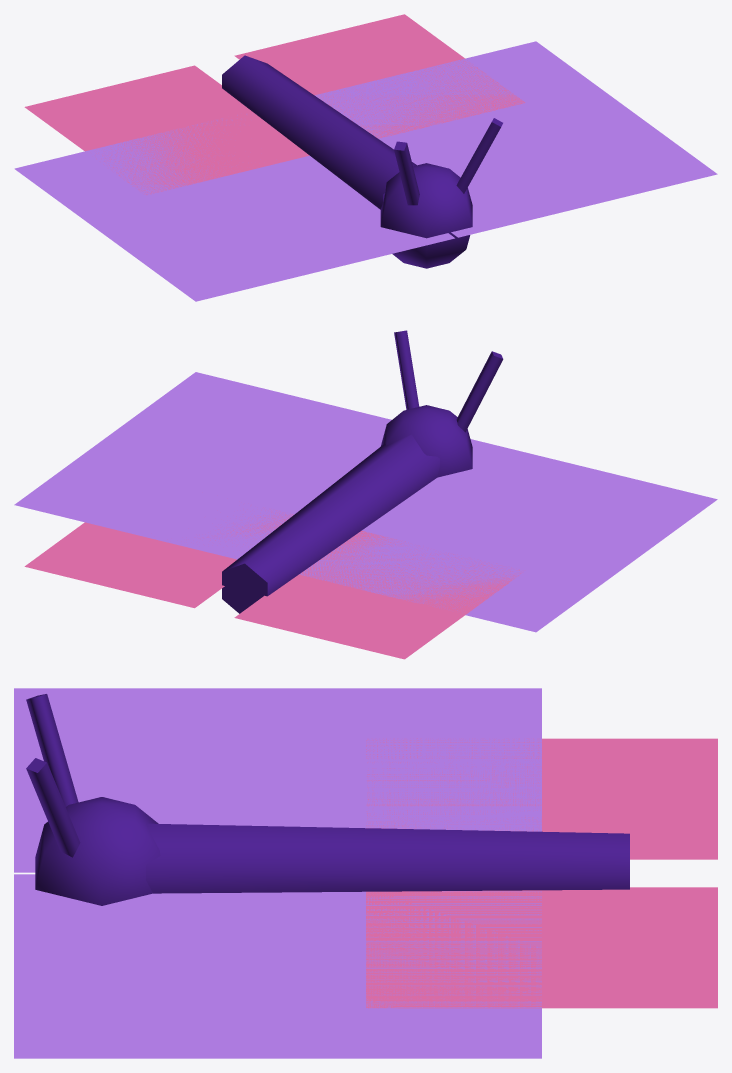
Rendered from butterfly.glb.
The picture shows the model from 3 angles, top to bottom: view 1: azimuth 30°, elevation 25°; view 2: azimuth 150°, elevation 25°; view 3: azimuth 270°, elevation 25°; orthographic projection. The views are drawn at different scales.
Parts seen in each view (by area): view 1: wing_left, wing_right, body, head, butterfly; view 2: wing_left, wing_right, body, head, butterfly; view 3: wing_right, wing_left, body, head, butterfly.
Boxes of the visible parts, <box> form: wing_left: <box>14,65,454,301</box>; wing_right: <box>234,14,717,237</box>; body: <box>222,55,416,209</box>; head: <box>380,163,472,268</box>; butterfly: <box>394,118,502,205</box>; wing_left: <box>234,439,717,659</box>; wing_right: <box>14,372,391,608</box>; body: <box>222,434,439,613</box>; head: <box>380,405,472,477</box>; butterfly: <box>394,330,503,432</box>; wing_right: <box>14,874,717,1058</box>; wing_left: <box>14,688,717,872</box>; body: <box>146,823,629,893</box>; head: <box>35,797,160,905</box>; butterfly: <box>26,694,80,857</box>.
Bounding box in the file's own units: 0.398 × 0.108 × 0.32.
